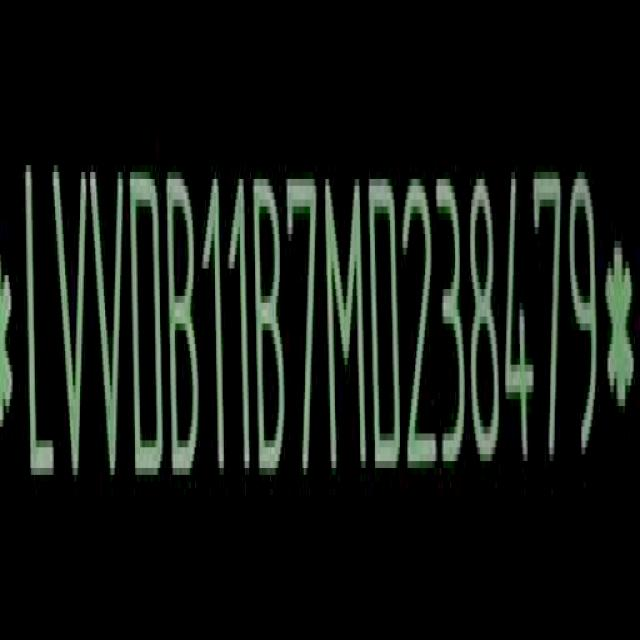1: (203, 166, 228, 472), (230, 184, 251, 469)
2: (402, 178, 436, 464)
3: (436, 158, 466, 472)
4: (503, 168, 535, 459)
7: (286, 156, 320, 467), (533, 163, 562, 461)
8: (468, 166, 497, 469)
9: (566, 165, 601, 458)
B: (250, 156, 286, 479), (163, 163, 200, 477)
D: (131, 145, 166, 474), (368, 150, 403, 477)
L: (20, 160, 54, 477)
M: (322, 174, 368, 472)
V: (53, 153, 91, 469), (89, 161, 126, 484)
